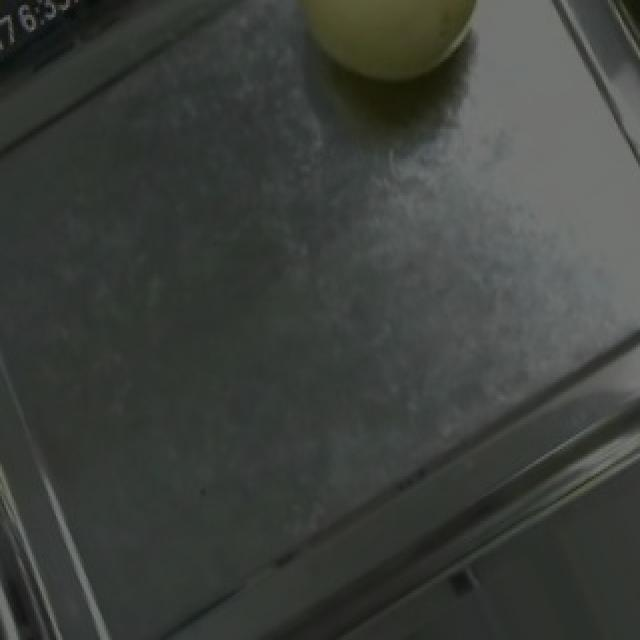Fruit: (254, 0, 514, 124)
